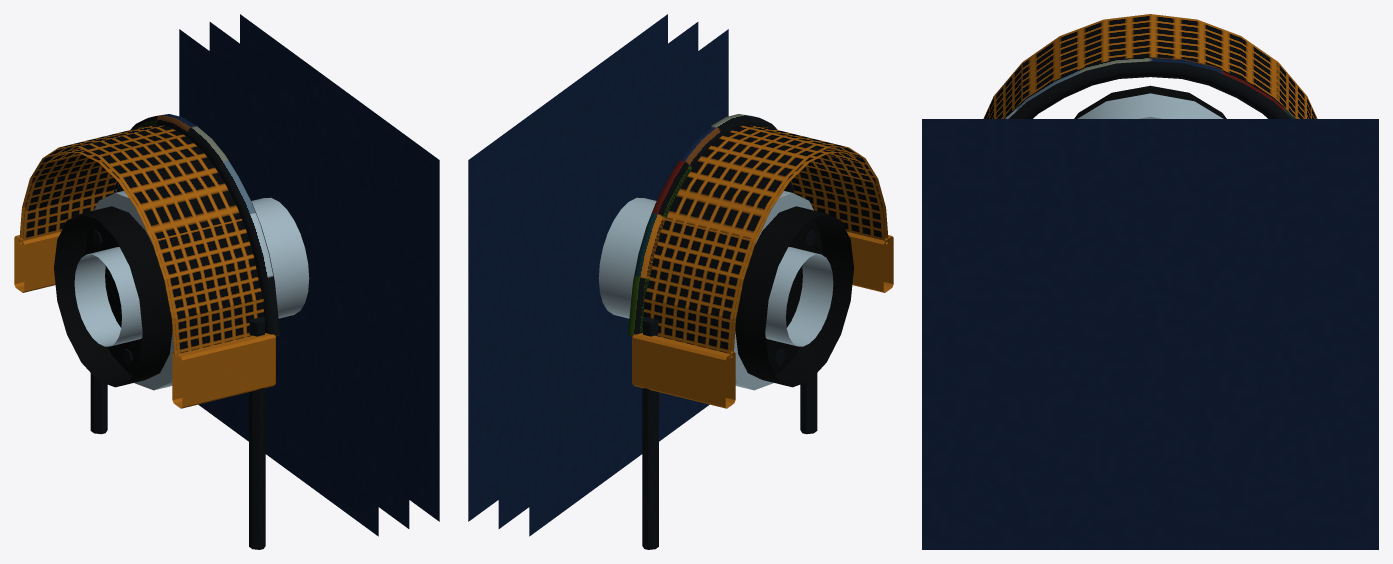
Rendered from cell_36.obj.
3 views of the same model, side by side, from view 1: azimuth 30°, elevation 25°; view 2: azimuth 150°, elevation 25°; view 3: azimuth 270°, elevation 25° (orthographic). The views are drawn at different scales.
Visible parts, largest first — view 1: cell_36; view 2: cell_36; view 3: cell_36.
Boxes of the visible parts, <box> form: cell_36: <box>14,14,439,549</box>; cell_36: <box>468,14,893,549</box>; cell_36: <box>922,14,1378,549</box>.
Size of the model in its own units: 0.6985 by 1 by 1.
